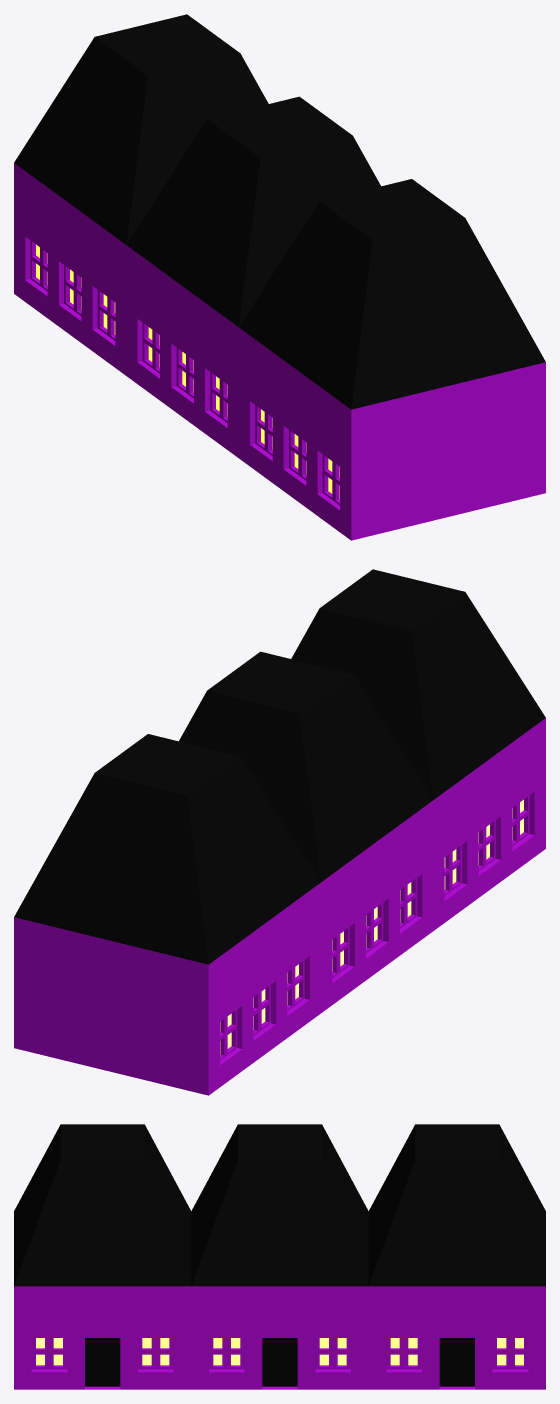
The model's file is bungalows_2(3).fbx.
3 views of the same model, one above another, from view 1: azimuth 30°, elevation 25°; view 2: azimuth 150°, elevation 25°; view 3: azimuth 270°, elevation 25° (orthographic). The views are drawn at different scales.
Parts seen in each view (by area): view 1: Cube; view 2: Cube; view 3: Cube.
Boxes of the visible parts, x1=… form: Cube: x1=14, y1=14, x2=545, y2=540; Cube: x1=14, y1=569, x2=545, y2=1095; Cube: x1=14, y1=1124, x2=545, y2=1389.
Bounding box in the file's own units: 28 × 36.56 × 84.
